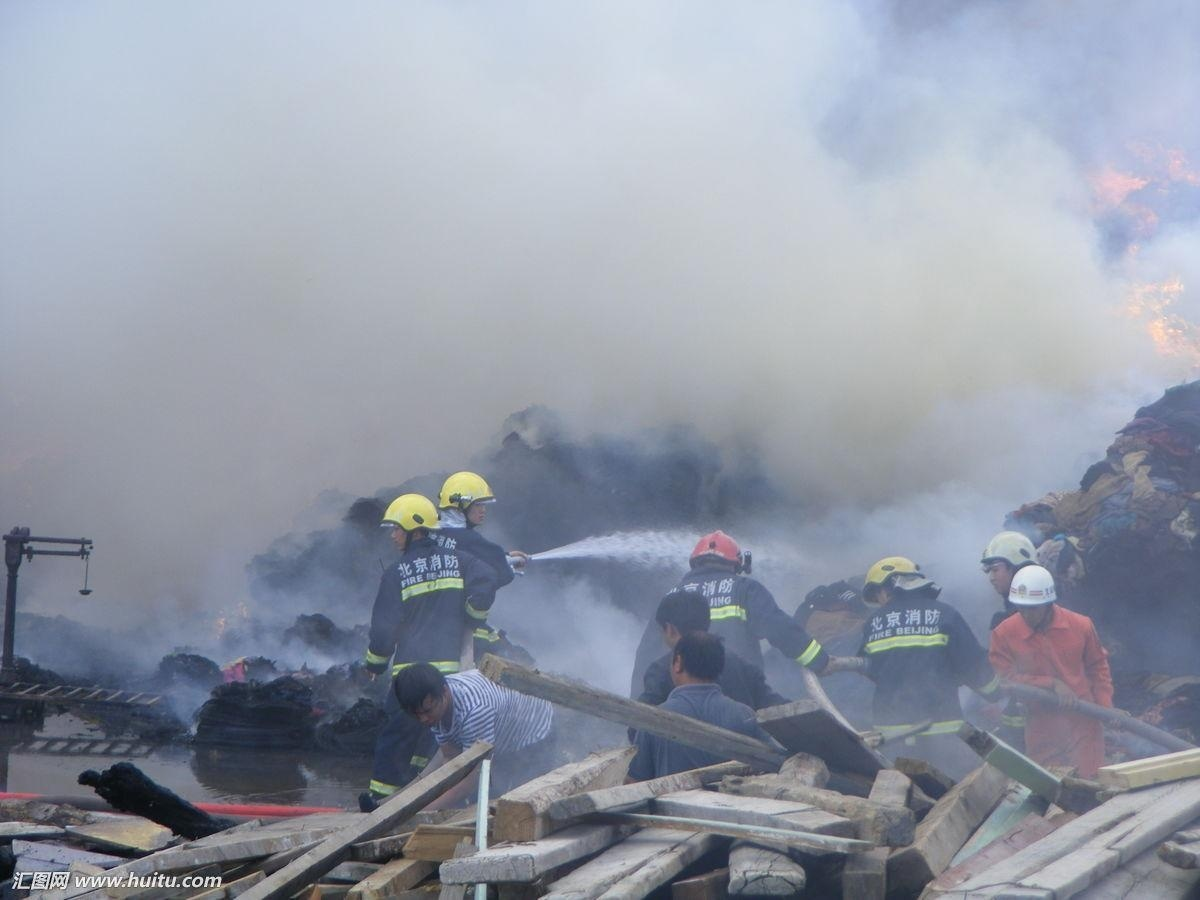fire: (1096, 135, 1199, 369)
